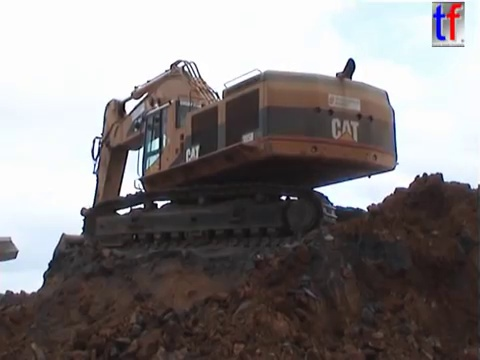excavator: (46, 52, 403, 276)
truck: (1, 234, 21, 264)
